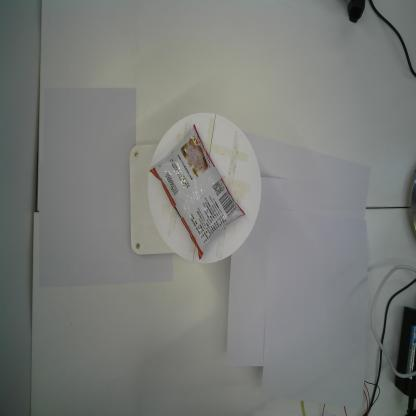Seasoner: (149, 124, 245, 260)
